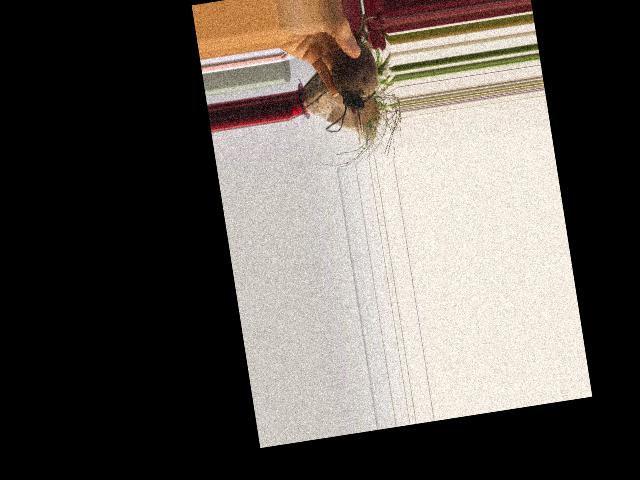beet: (310, 16, 392, 134)
